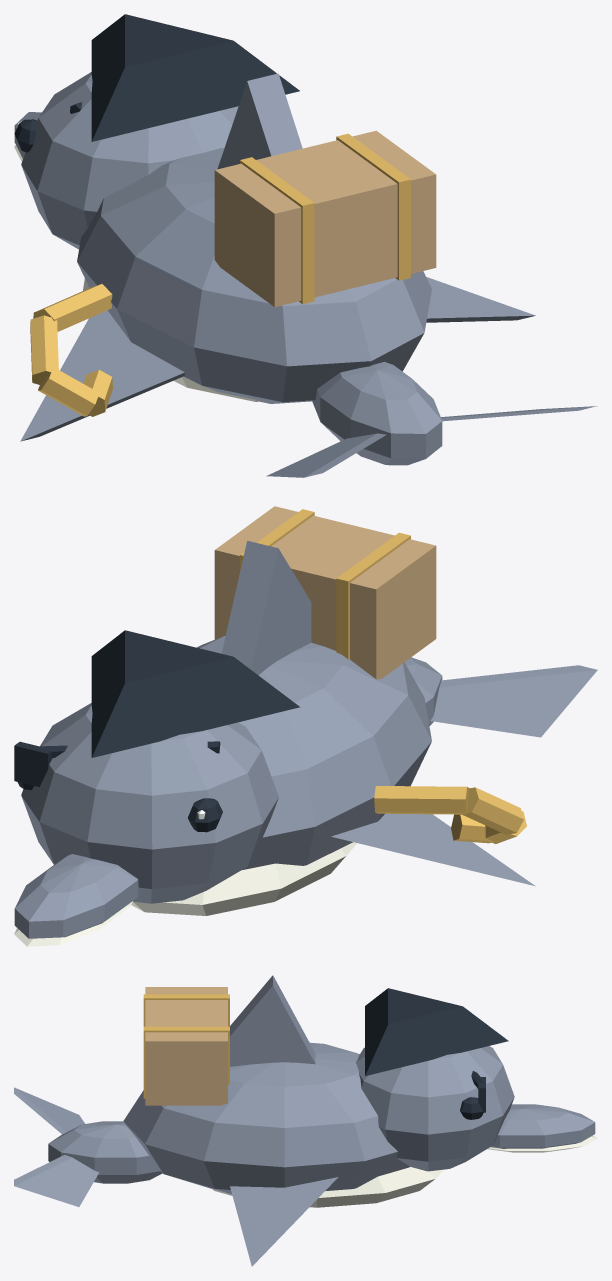
The model's file is pirate.glb.
3 renders of one model, top to bottom at view 1: azimuth 30°, elevation 25°; view 2: azimuth 150°, elevation 25°; view 3: azimuth 270°, elevation 25°, orthographic. The views are drawn at different scales.
Parts seen in each view (by area): view 1: DolphinBody.017, Treasure chest, Pirate hat, DolphinForehead.017, Tail stem.017, FlipperLeft.017, DorsalFin.017, FlipperRight.017, Chest brass band.001, Chest brass band, Hook flipper0, TailFlukeLeft.017 (+4 smaller); view 2: DolphinForehead.017, DolphinBody.017, Treasure chest, Pirate hat, DorsalFin.017, TailFlukeLeft.017, Distinct dolphin beak.017, FlipperLeft.017, Pale belly.017, Hook flipper0, Chest brass band, Hook flipper1 (+6 smaller); view 3: DolphinBody.017, DolphinForehead.017, Treasure chest, Pirate hat, DorsalFin.017, Tail stem.017, FlipperRight.017, Distinct dolphin beak.017, TailFlukeRight.017, Pale belly.017, TailFlukeLeft.017, Chest brass band.001 (+3 smaller).
Boxes of the visible parts, x1,y1,x2,y2 form: DolphinBody.017: (77, 148, 431, 403); Treasure chest: (214, 130, 436, 306); Pirate hat: (91, 14, 299, 141); DolphinForehead.017: (21, 72, 238, 249); Tail stem.017: (312, 361, 442, 465); FlipperLeft.017: (20, 310, 184, 441); DorsalFin.017: (217, 73, 302, 169); FlipperRight.017: (426, 277, 535, 322); Chest brass band.001: (336, 133, 410, 280); Chest brass band: (240, 157, 314, 304); Hook flipper0: (33, 284, 112, 331); TailFlukeLeft.017: (266, 433, 386, 477); DolphinForehead.017: (21, 703, 278, 903); DolphinBody.017: (197, 636, 431, 869); Treasure chest: (214, 506, 436, 679); Pirate hat: (91, 630, 299, 757); DorsalFin.017: (221, 540, 311, 675); TailFlukeLeft.017: (430, 665, 597, 737); Distinct dolphin beak.017: (14, 854, 140, 938); FlipperLeft.017: (331, 813, 535, 886); Pale belly.017: (131, 842, 356, 915); Hook flipper0: (374, 786, 469, 814); Chest brass band: (336, 532, 410, 659); Hook flipper1: (461, 787, 523, 834); DolphinBody.017: (123, 1042, 409, 1194); DolphinForehead.017: (356, 1046, 514, 1171); Treasure chest: (145, 987, 227, 1105); Pirate hat: (365, 988, 508, 1075); DorsalFin.017: (230, 975, 315, 1066); Tail stem.017: (48, 1121, 162, 1183); FlipperRight.017: (230, 1177, 338, 1266); Distinct dolphin beak.017: (490, 1104, 595, 1148); TailFlukeRight.017: (14, 1155, 99, 1206); Pale belly.017: (212, 1167, 443, 1207); TailFlukeLeft.017: (14, 1087, 84, 1134); Chest brass band.001: (143, 1026, 229, 1098).
Bounding box in the file's own units: 2.68 × 1.5 × 3.8.
